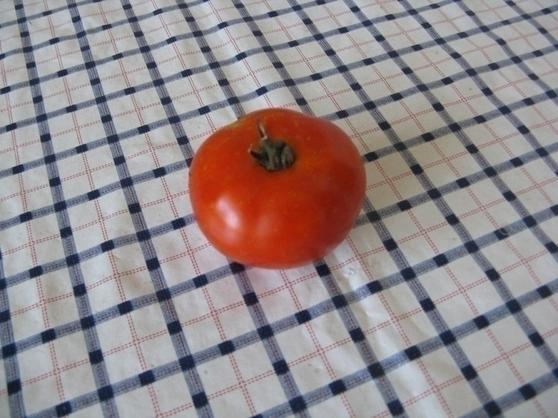tomato: (176, 106, 372, 267)
